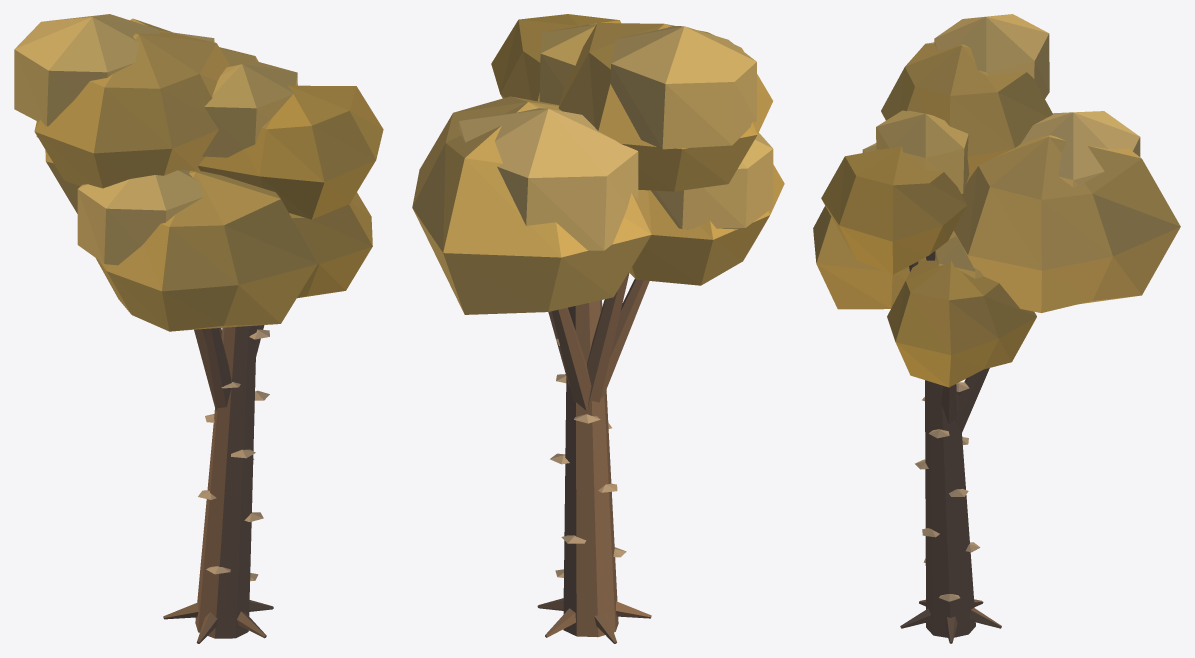
File: extension_node_10.glb
The picture shows the model from 3 angles, left to right: view 1: azimuth 30°, elevation 25°; view 2: azimuth 150°, elevation 25°; view 3: azimuth 270°, elevation 25°; orthographic projection. The views are drawn at different scales.
Parts seen in each view (by area): view 1: extension_node_10; view 2: extension_node_10; view 3: extension_node_10.
Boxes of the visible parts, x1,y1,x2,y2 form: extension_node_10: [14, 14, 383, 643]; extension_node_10: [412, 14, 784, 643]; extension_node_10: [813, 14, 1180, 643].
Size of the model in its own units: 2.36 by 4.35 by 2.58.
